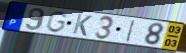3: (94, 15, 115, 41)
8: (144, 23, 166, 47)
9: (24, 7, 45, 31)
G: (44, 10, 69, 34)
I: (124, 19, 137, 43)
K: (71, 13, 94, 38)
